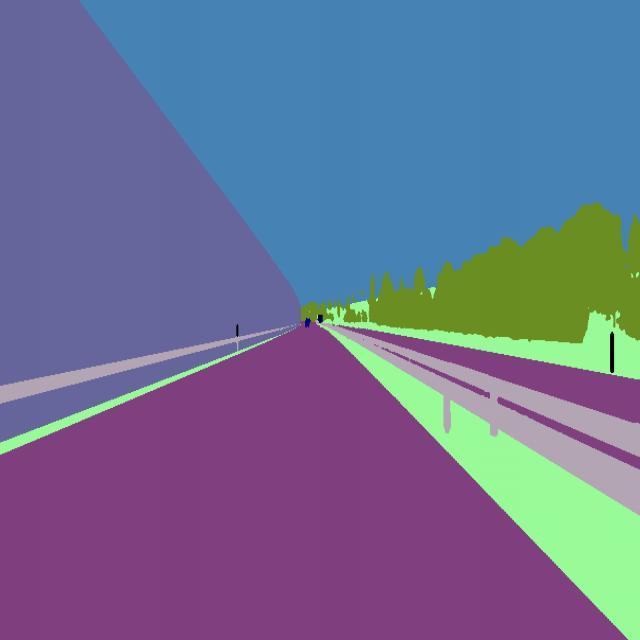safe: (302, 316, 313, 329)
